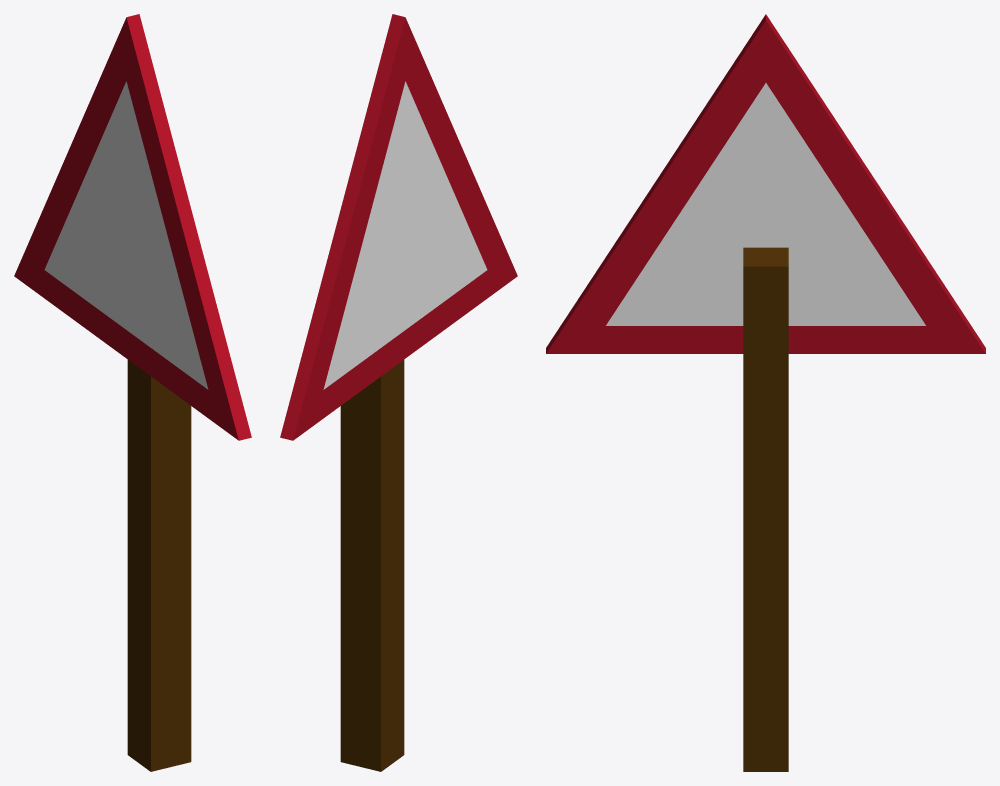
The model's file is SM_Absperrung_01.fbx.
3 renders of one model, left to right at view 1: azimuth 30°, elevation 25°; view 2: azimuth 150°, elevation 25°; view 3: azimuth 270°, elevation 25°, orthographic. The views are drawn at different scales.
Parts seen in each view (by area): view 1: Absperrung_01.001; view 2: Absperrung_01.001; view 3: Absperrung_01.001.
Part boxes in pixels (box(x1,y1,x2,y2)): Absperrung_01.001: box(14, 14, 251, 771); Absperrung_01.001: box(280, 14, 517, 771); Absperrung_01.001: box(546, 14, 985, 771).
Bounding box in the file's own units: 19.99 × 270 × 147.
